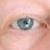eye: (18, 19, 32, 30)
